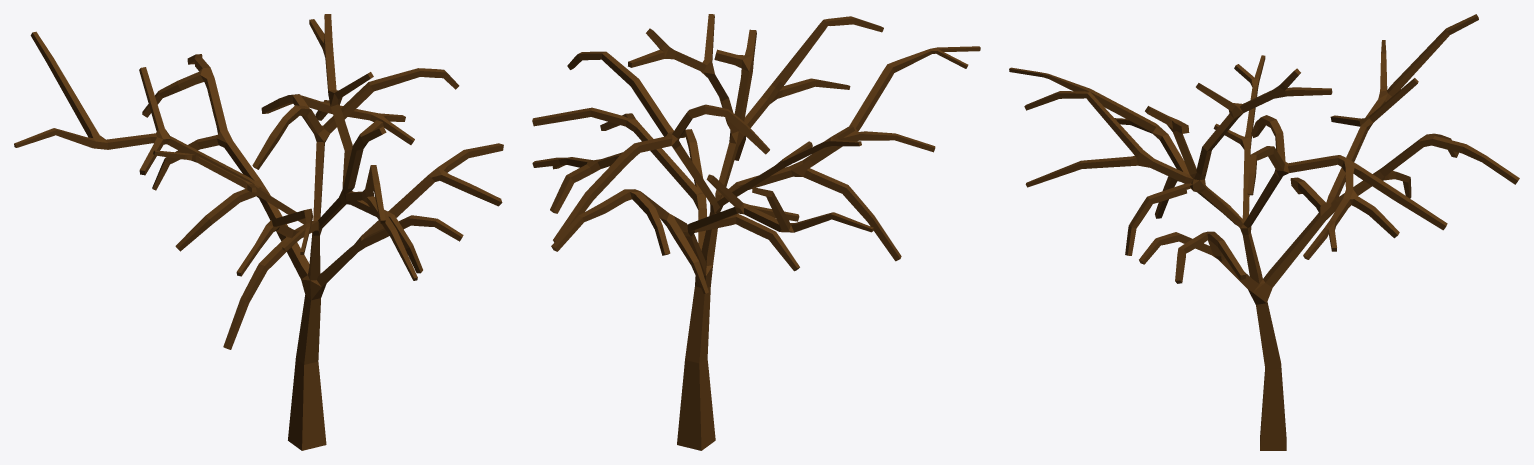
File: tree04.glb
3 views of the same model, side by side, from view 1: azimuth 30°, elevation 25°; view 2: azimuth 150°, elevation 25°; view 3: azimuth 270°, elevation 25° (orthographic). The views are drawn at different scales.
Parts seen in each view (by area): view 1: Cube; view 2: Cube; view 3: Cube.
Boxes of the visible parts, left/top/right/bottom form: Cube: left=14, top=14, right=503, bottom=450; Cube: left=532, top=14, right=980, bottom=450; Cube: left=1009, top=14, right=1519, bottom=450.
Size of the model in its own units: 4.1 by 3.91 by 4.63.
